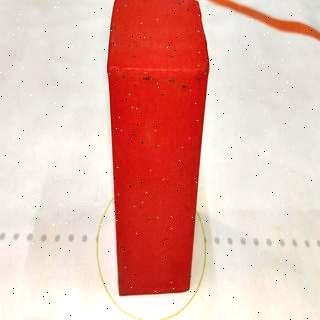redbox: (106, 0, 210, 297)
